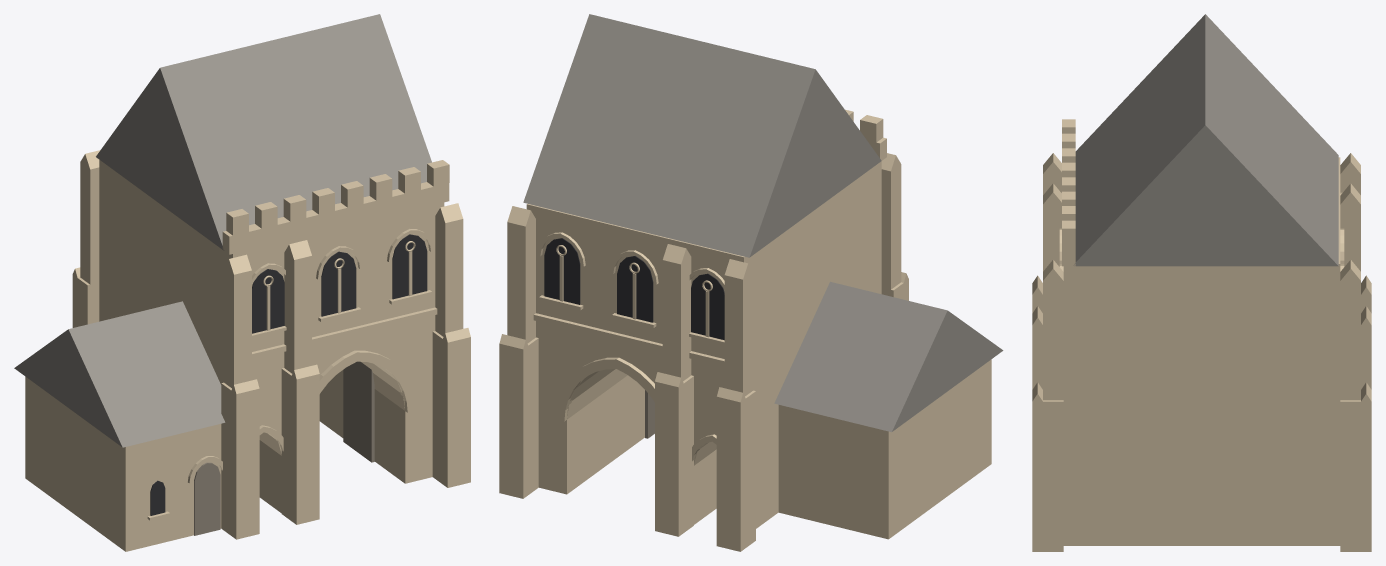
Rendered from abbey-gate.glb.
The picture shows the model from 3 angles, left to right: view 1: azimuth 30°, elevation 25°; view 2: azimuth 150°, elevation 25°; view 3: azimuth 270°, elevation 25°; orthographic projection. The views are drawn at different scales.
Visible parts, largest first — view 1: arch-ring-carriage-back; view 2: arch-ring-carriage-back; view 3: arch-ring-carriage-back.
Part boxes in pixels (x1,y1,x2,y2): arch-ring-carriage-back: (14,14,470,551); arch-ring-carriage-back: (499,14,1003,551); arch-ring-carriage-back: (1032,14,1371,551).
Size of the model in its own units: 11.65 by 13.5 by 9.8.
